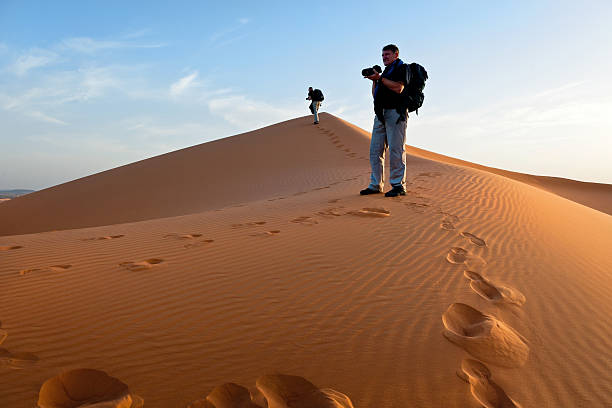human_foot_print: (442, 303, 529, 367), (39, 372, 136, 408), (264, 366, 344, 408), (457, 358, 520, 407), (464, 270, 525, 305), (211, 380, 258, 408), (22, 259, 89, 276), (119, 258, 163, 270), (90, 232, 127, 245), (362, 203, 389, 220), (461, 231, 486, 246), (302, 209, 314, 230), (183, 230, 203, 240), (251, 221, 265, 229), (271, 227, 281, 238)
